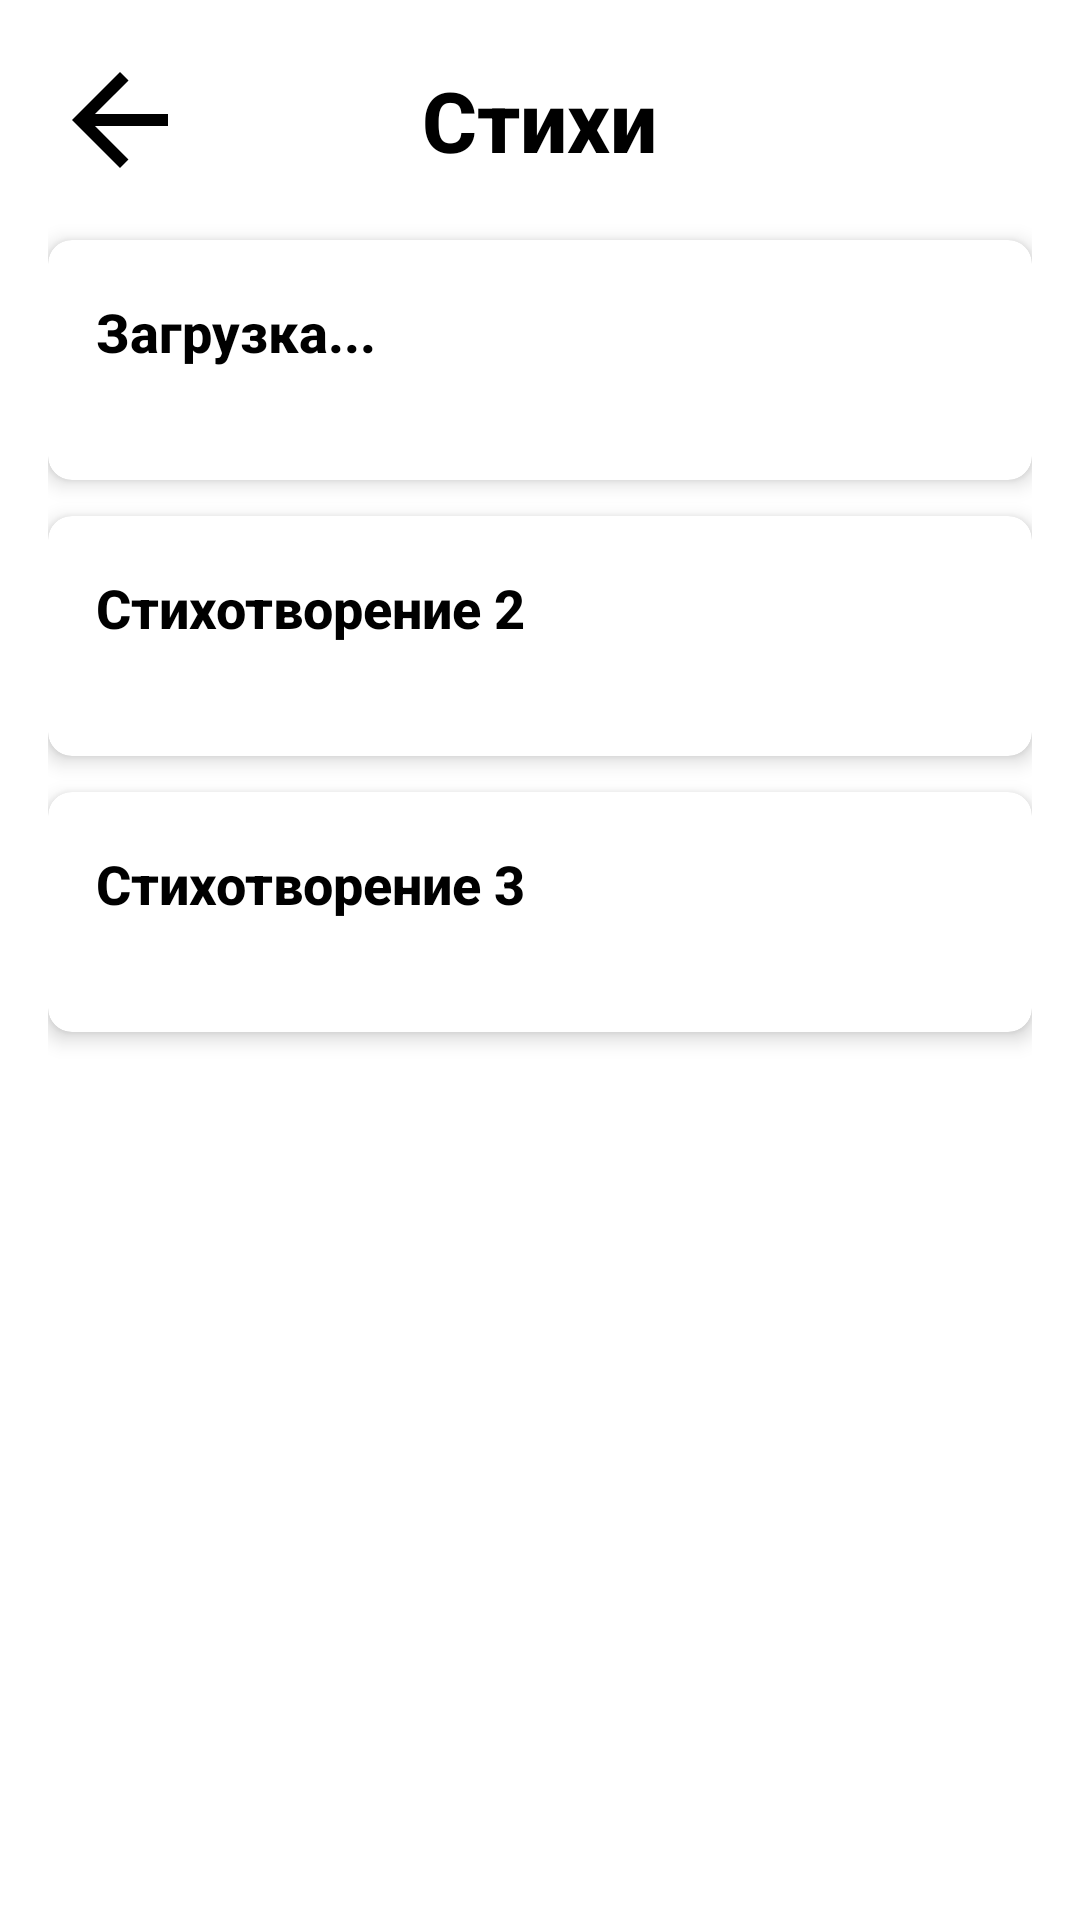

Point at icon controls on the screen. Image size 1080px x 1920px, points as (x,y).
Назад: (120,120)
